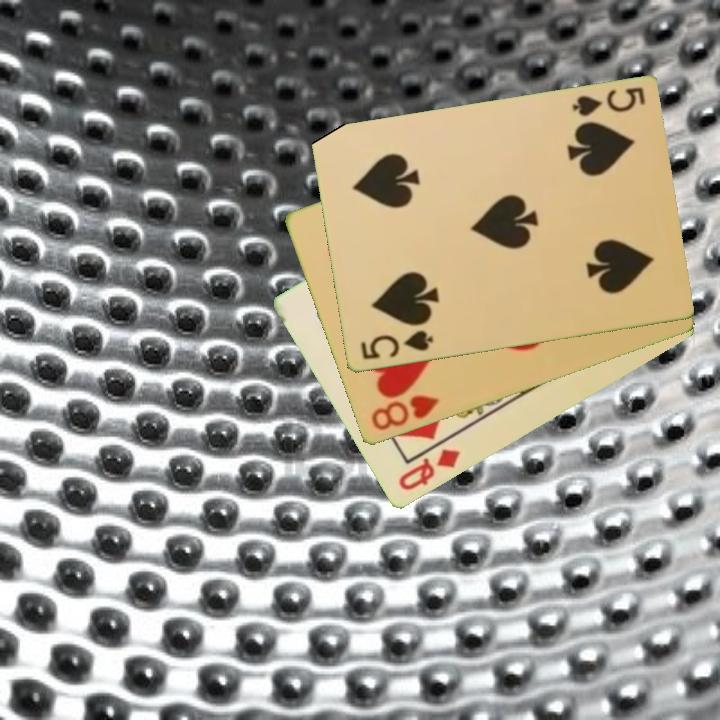5s: (356, 327, 436, 363), (568, 84, 648, 120)
8h: (367, 392, 442, 434)
Qd: (394, 445, 463, 494)
